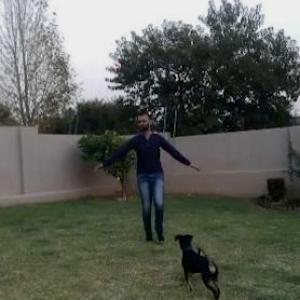land: (74, 107, 208, 269)
